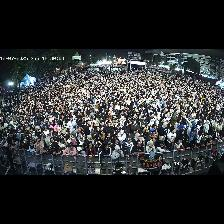person: (99, 145, 112, 169), (86, 143, 96, 163), (63, 143, 76, 157), (48, 143, 62, 156), (167, 129, 176, 149), (132, 141, 144, 155), (112, 146, 124, 159), (35, 137, 44, 154), (159, 123, 167, 141), (155, 140, 167, 152), (140, 116, 148, 133), (189, 126, 197, 142), (67, 116, 75, 131), (197, 126, 203, 146), (175, 140, 185, 152), (122, 143, 130, 157), (118, 130, 126, 144), (96, 135, 103, 151), (111, 139, 121, 150), (145, 132, 155, 143), (146, 141, 155, 153), (58, 138, 67, 150), (189, 138, 199, 148), (126, 138, 133, 152), (130, 129, 138, 141), (131, 120, 139, 132), (105, 133, 113, 145), (29, 142, 36, 155), (77, 133, 84, 146), (56, 131, 65, 141), (19, 141, 29, 150), (133, 134, 142, 144), (179, 120, 187, 130), (87, 135, 94, 146), (205, 135, 212, 146), (50, 121, 57, 132), (182, 139, 190, 148), (120, 116, 126, 128), (104, 122, 111, 132), (1, 138, 8, 148), (201, 133, 208, 143), (216, 121, 222, 132), (46, 133, 51, 146), (77, 147, 85, 155), (67, 135, 74, 143), (41, 133, 46, 144), (15, 142, 20, 153), (212, 135, 218, 144), (111, 130, 117, 138)
